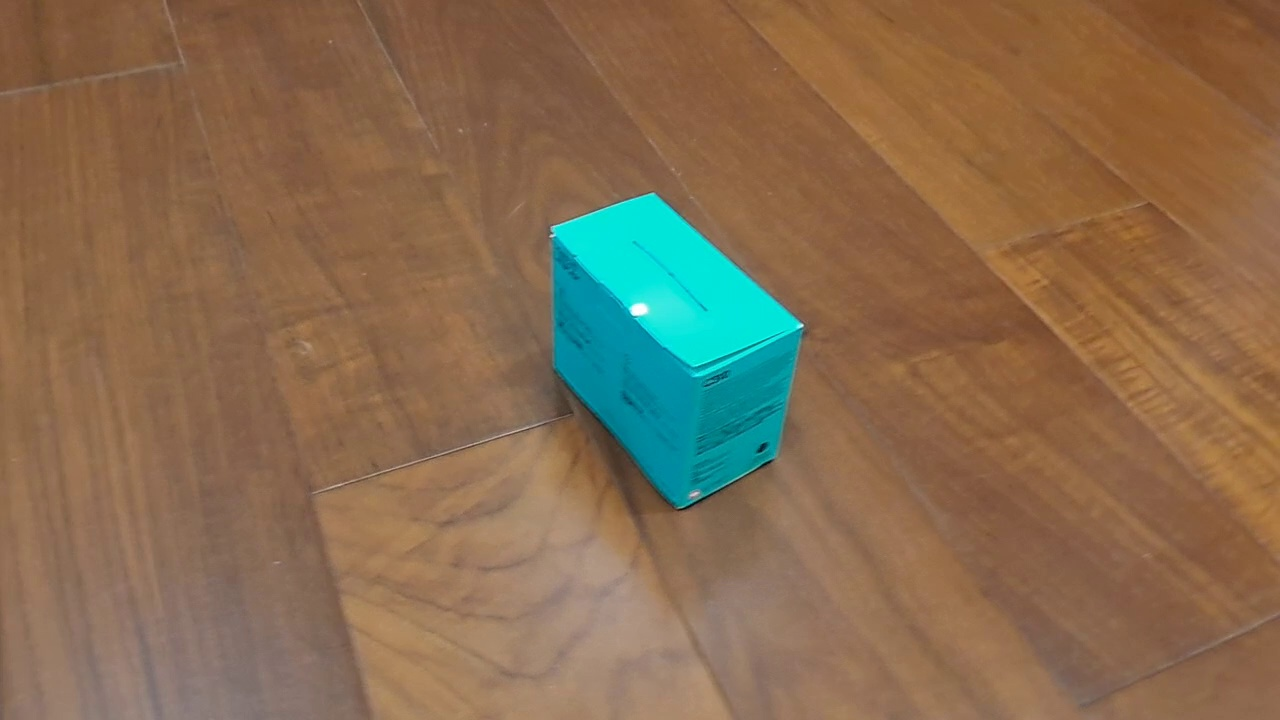webcam: (547, 190, 807, 513)
